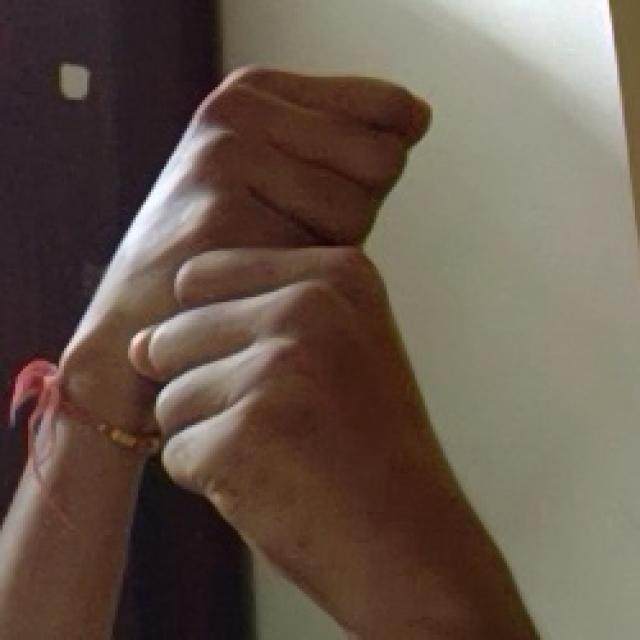Alphabet-g: (75, 58, 508, 623)
